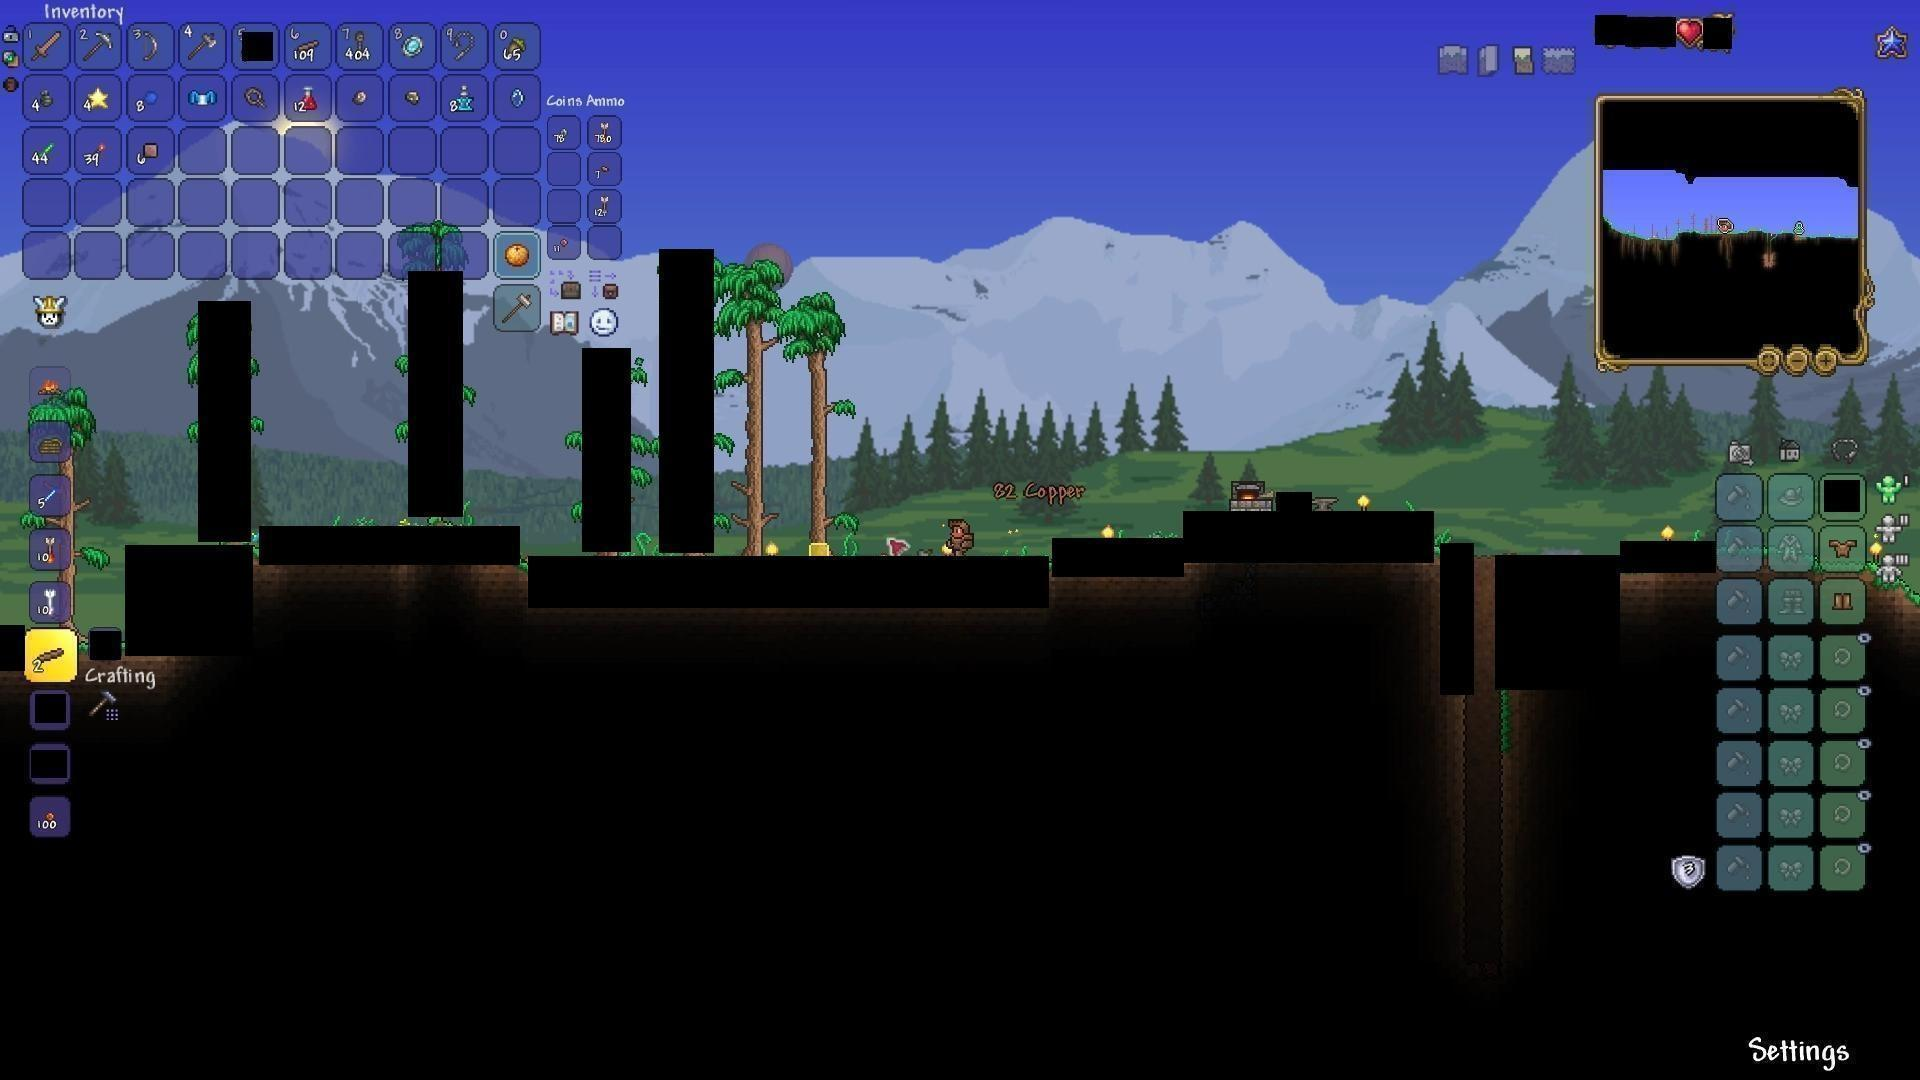breastplate: (1826, 537, 1858, 559)
dirt: (1871, 576, 1919, 618)
heart: (1676, 18, 1702, 47)
legs: (1829, 589, 1854, 618)
tree: (798, 291, 848, 549), (735, 276, 777, 549)
